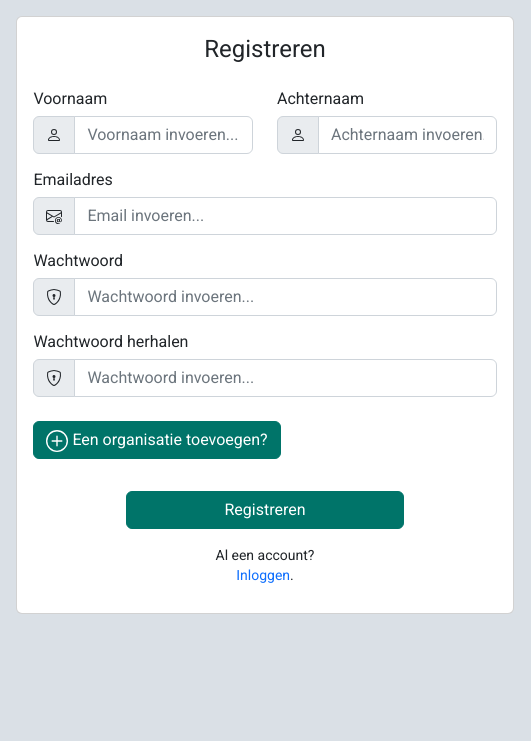
Test: Testing the error handling responses on incorrect input. › Enter a domain name, but email input value is empty. Should return a error
The image size is (531, 741).
Click the button "Een organisatie toevoegen? " at (157, 440), box [33,421,280,459]
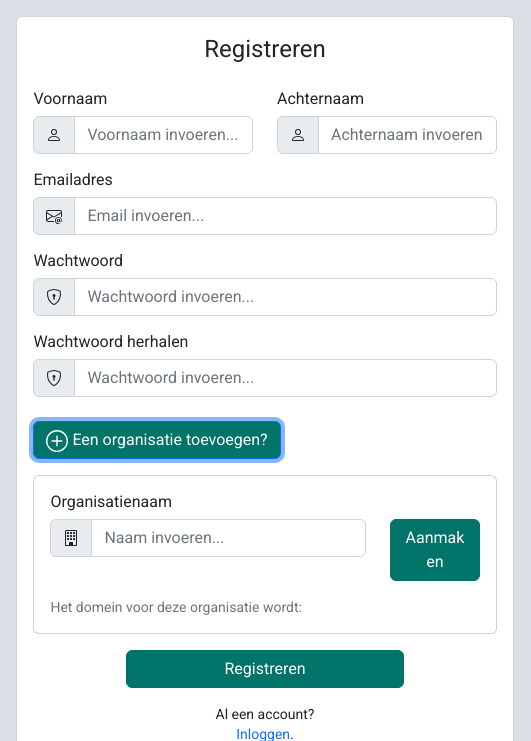
Type "aOrganisation" into the field with id "organisationNameInput" at (229, 538), box [91,519,366,557]
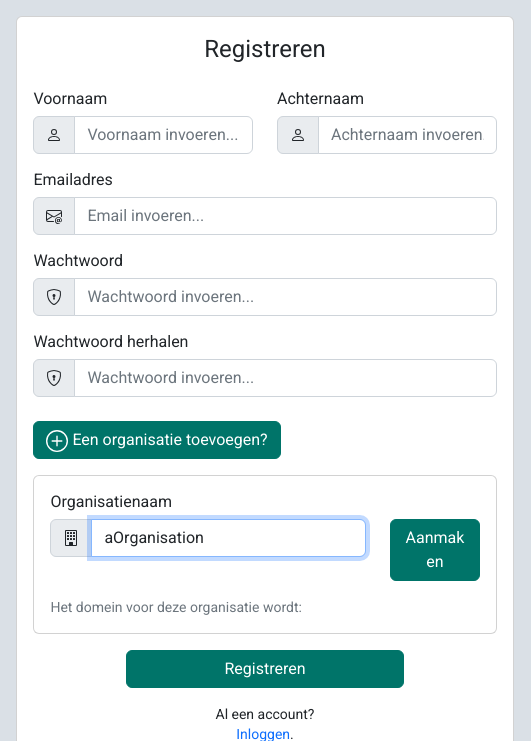
Click the button "Aanmaken" at (435, 550), box [390,519,479,581]
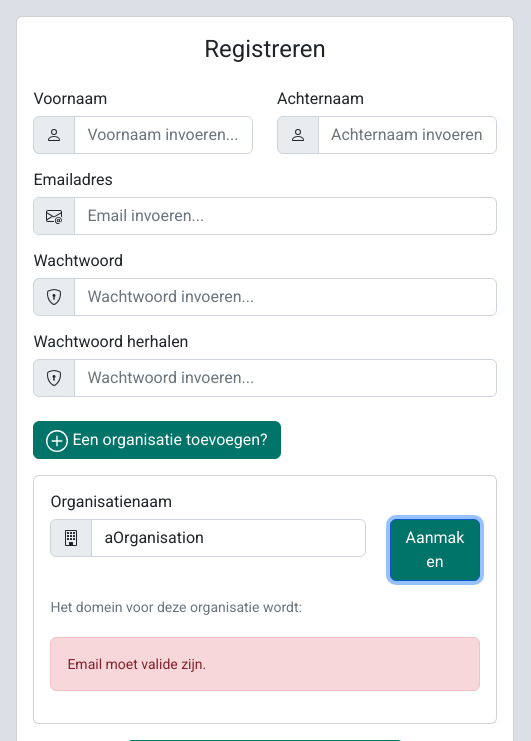
expect the text "Email moet valide zijn." is shown once: met, box [67,656,206,672]
expect the text "Email moet valide zijn." is shown: met, box [50,637,480,691]
